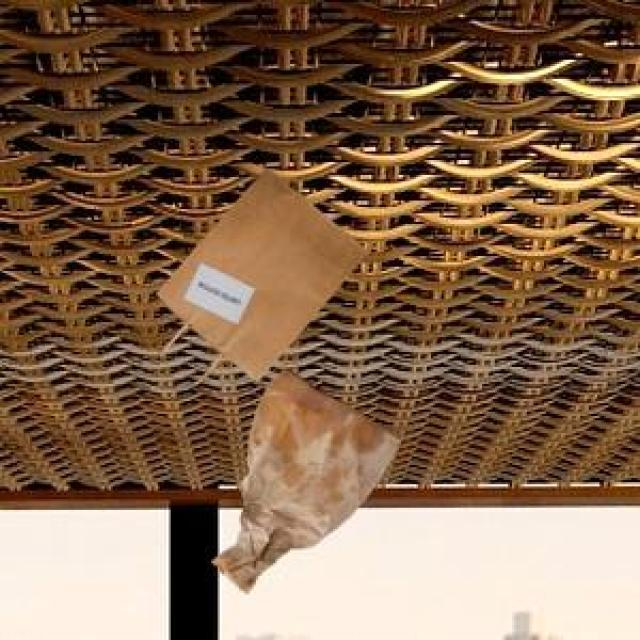Paper_Bag: (154, 165, 363, 379), (210, 361, 398, 590)
